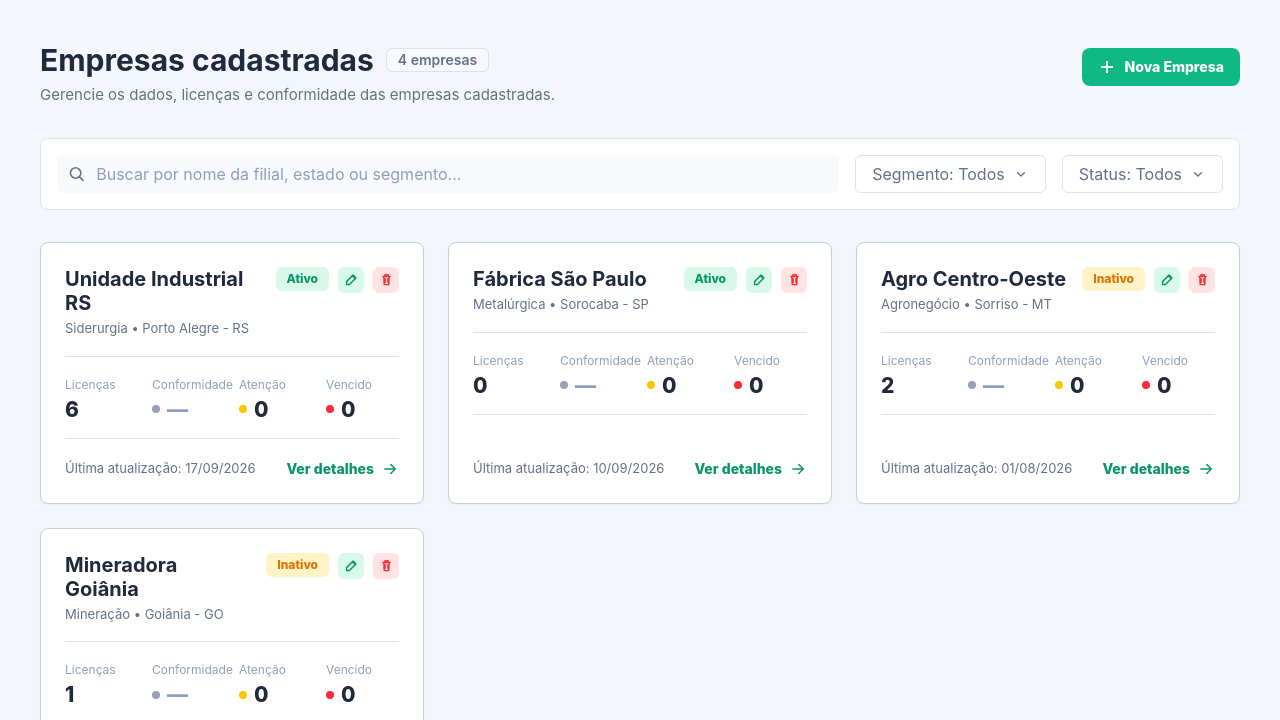
Test: AdminCompaniesPage filters › shows a filter-specific empty state, distinct from the "no company" one
Expected: the element "Unidade Industrial RS" is shown, x1=40 y1=242 x2=424 y2=504
Step 1. Type "empresa inexistente" into the search field named "buscar empresas" → (463, 174), box x1=96 y1=162 x2=829 y2=186
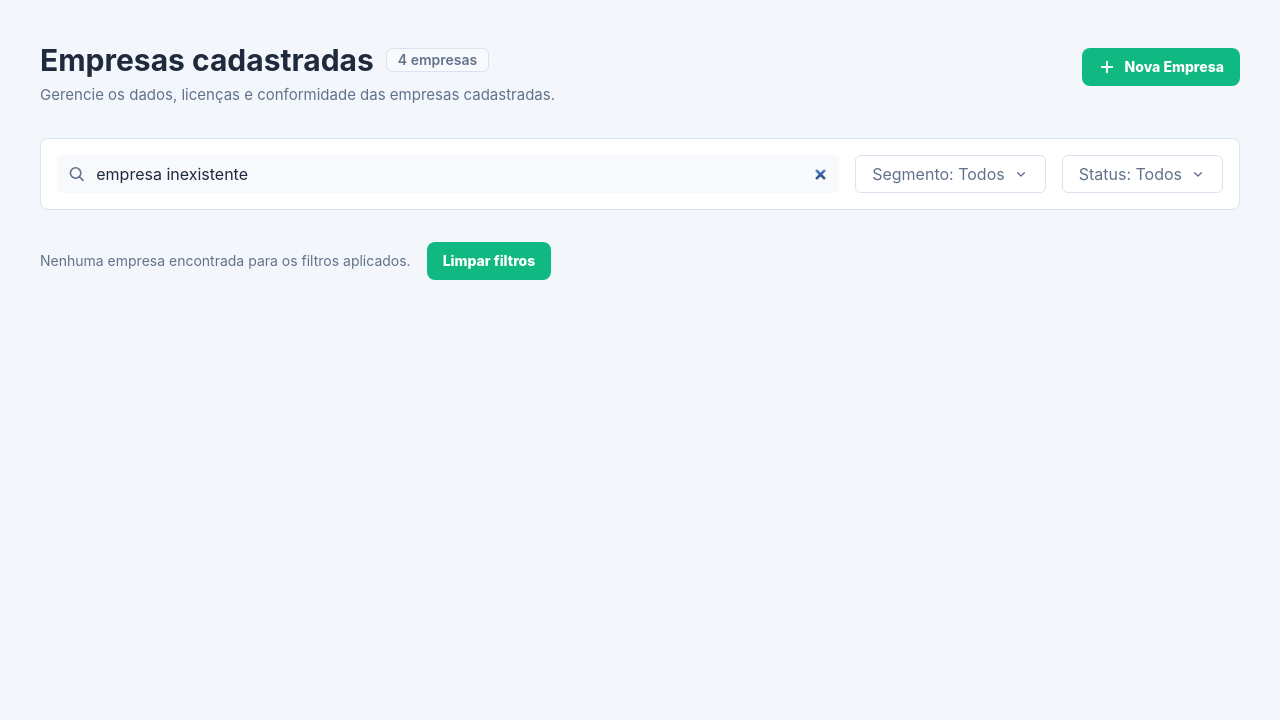
Now the text "Nenhuma empresa encontrada para os filtros aplicados." is shown, box x1=40 y1=251 x2=411 y2=271
